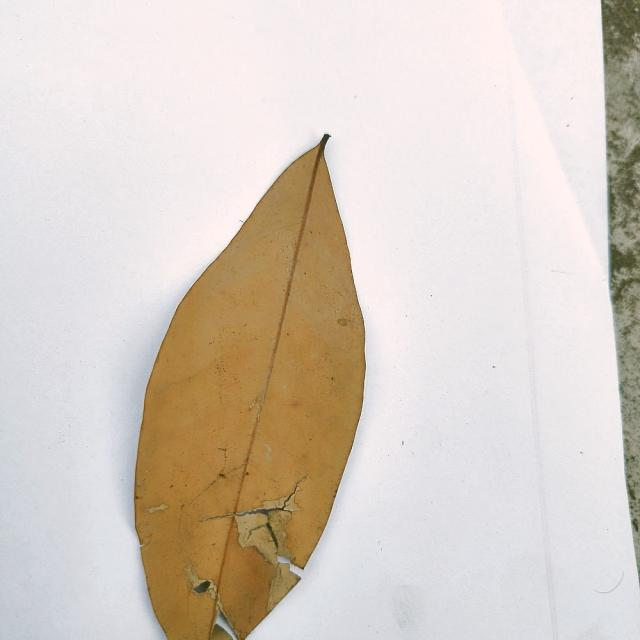Dry_Leaf-Lychee: (134, 137, 367, 639)
